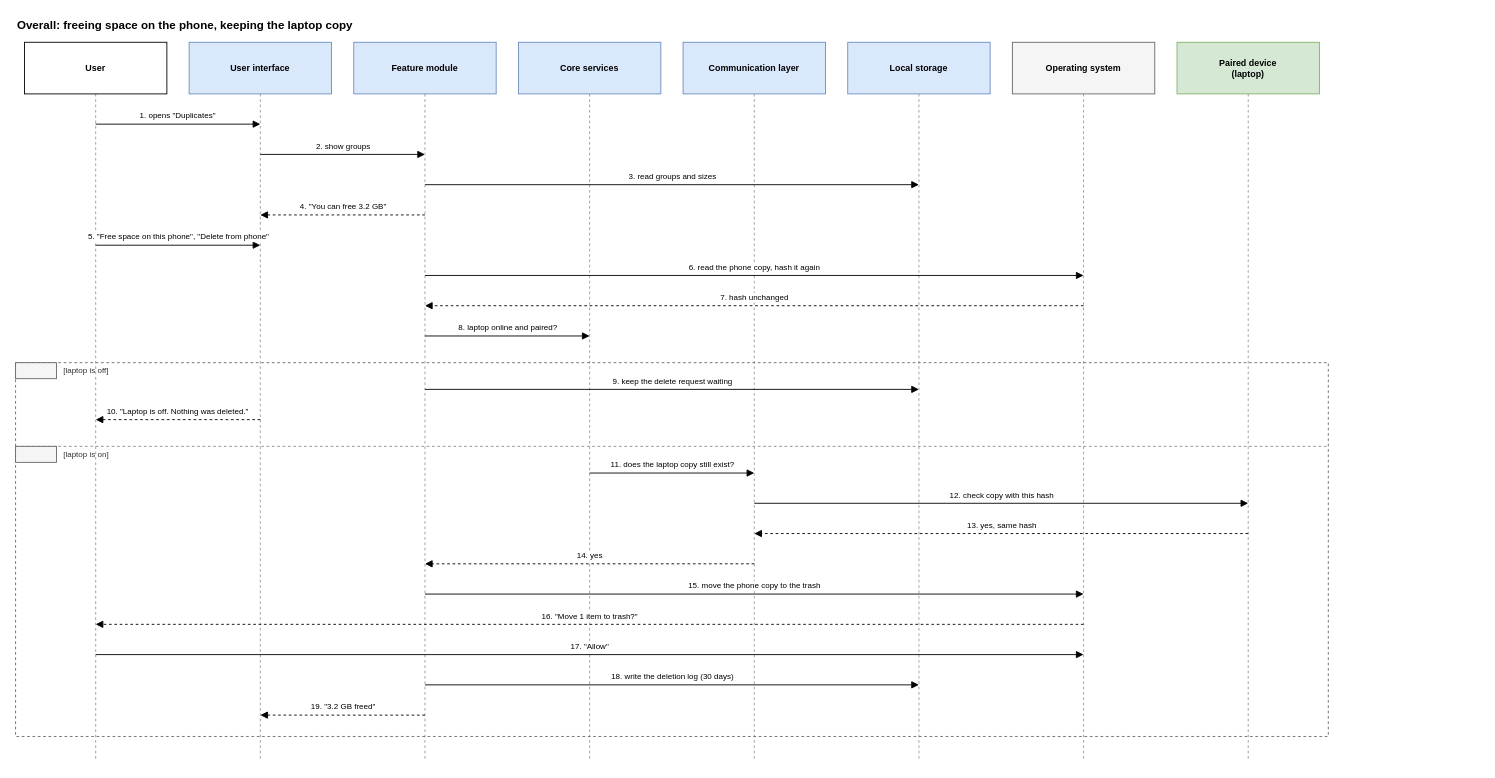
The diagram is 1495 pixels wide and 778 high, and some of its shapes have lost their labels. Here are the shapes that lost their labels. From the top down, the box of each, then its label:
(15, 362, 57, 379): alt
(15, 445, 57, 462): else
